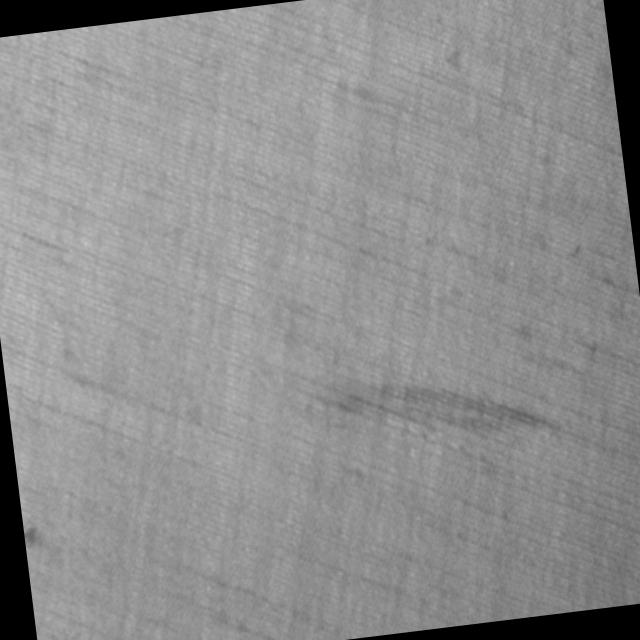oil spot: (324, 348, 562, 464)
